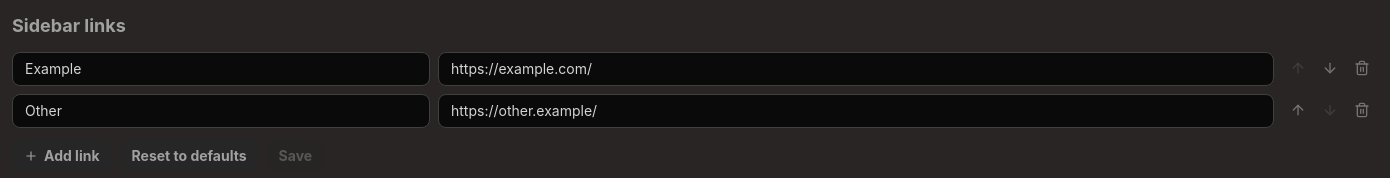
LinksEditor › removes a link
The width and height of the screenshot is (1390, 178).
Click the button named "Remove Example" at coordinates (1362, 68), box [1346,52,1378,84]
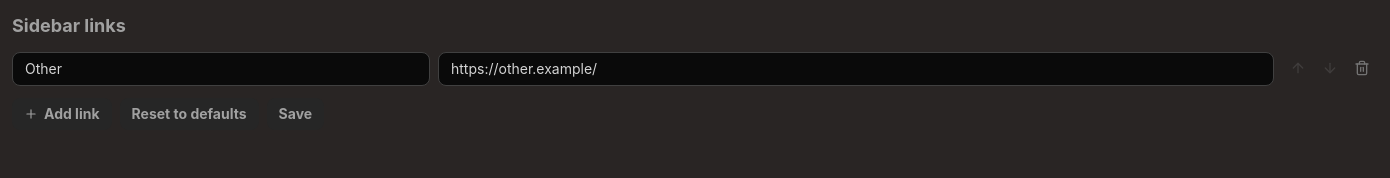
Click the button "Save" at coordinates (295, 114), box [267,98,324,130]
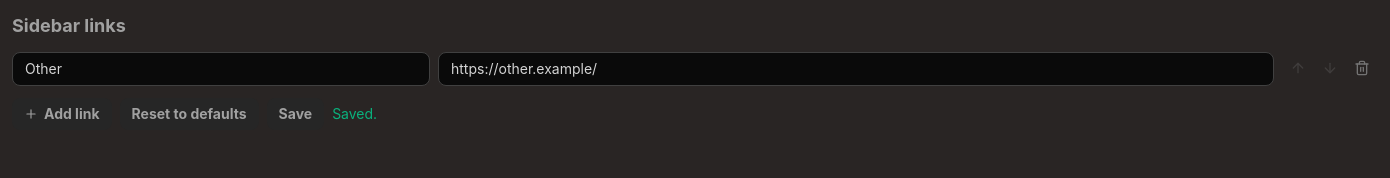
Expected: the text "Saved." is shown, [332,104,377,124]
